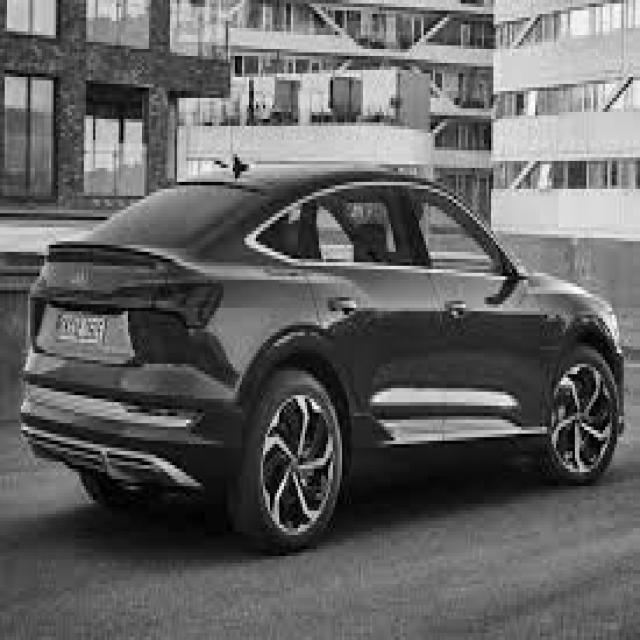Car: (21, 169, 621, 549)
